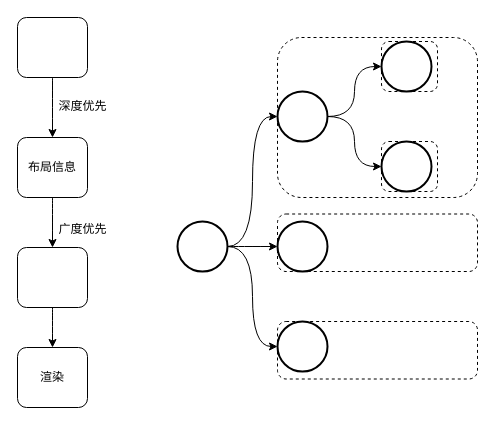
Image size: 495x425. Some labels were removed from this diagram. Here are the shapes that lost their labels. From the top down, the centre of each, then its label:
[52,47]: 数据
[52,277]: 排版信息
